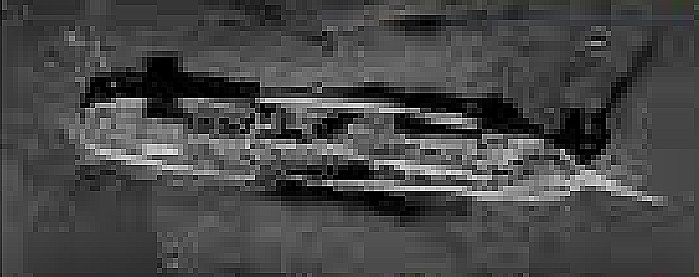ship: (60, 94, 669, 210)
